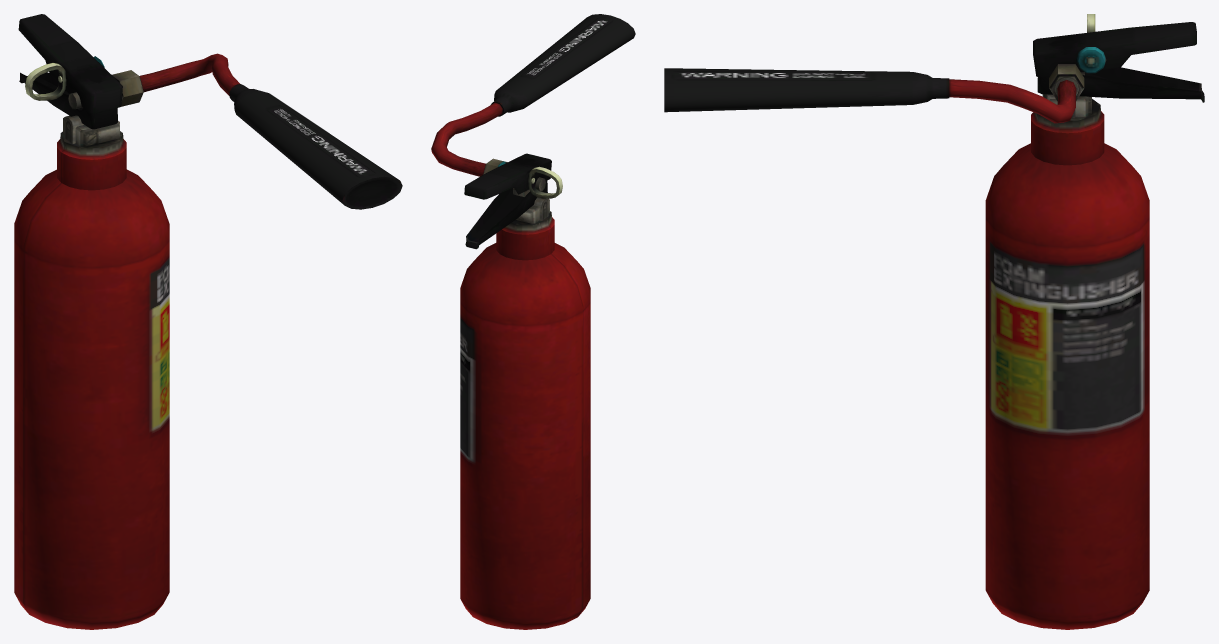
Rendered from fireExtinguisher.obj.
3 views of the same model, side by side, from view 1: azimuth 30°, elevation 25°; view 2: azimuth 150°, elevation 25°; view 3: azimuth 270°, elevation 25° (orthographic). The views are drawn at different scales.
Parts seen in each view (by area): view 1: Fire_Extiguisher; view 2: Fire_Extiguisher; view 3: Fire_Extiguisher.
Part boxes in pixels (x1,y1,x2,y2): Fire_Extiguisher: (14, 14, 402, 629); Fire_Extiguisher: (431, 14, 635, 629); Fire_Extiguisher: (664, 14, 1204, 629).
Bounding box in the file's own units: 30.36 × 83.19 × 71.4.
